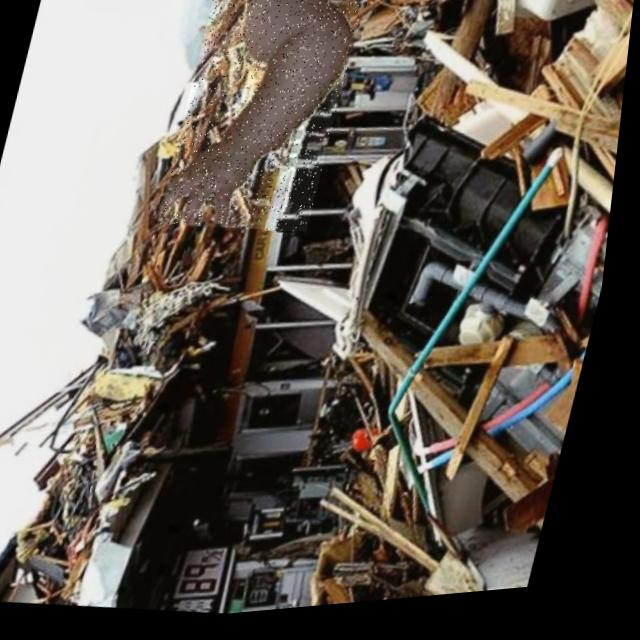Person in Rubble: (161, 0, 370, 247)
